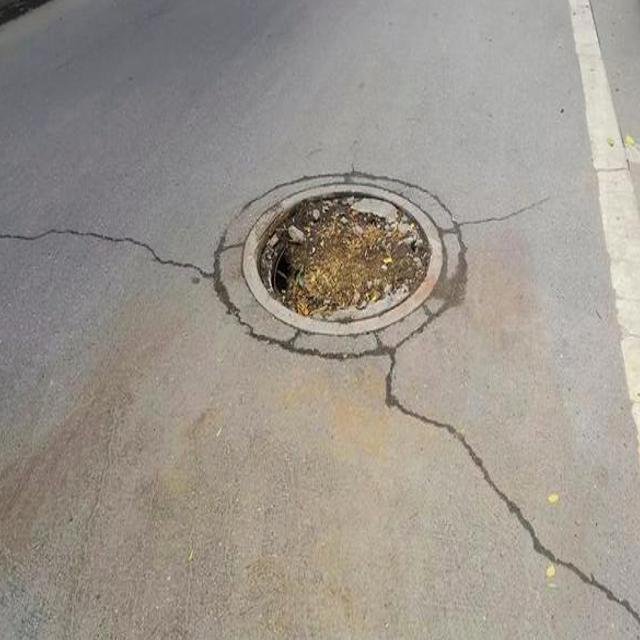broke: (200, 144, 473, 371)
